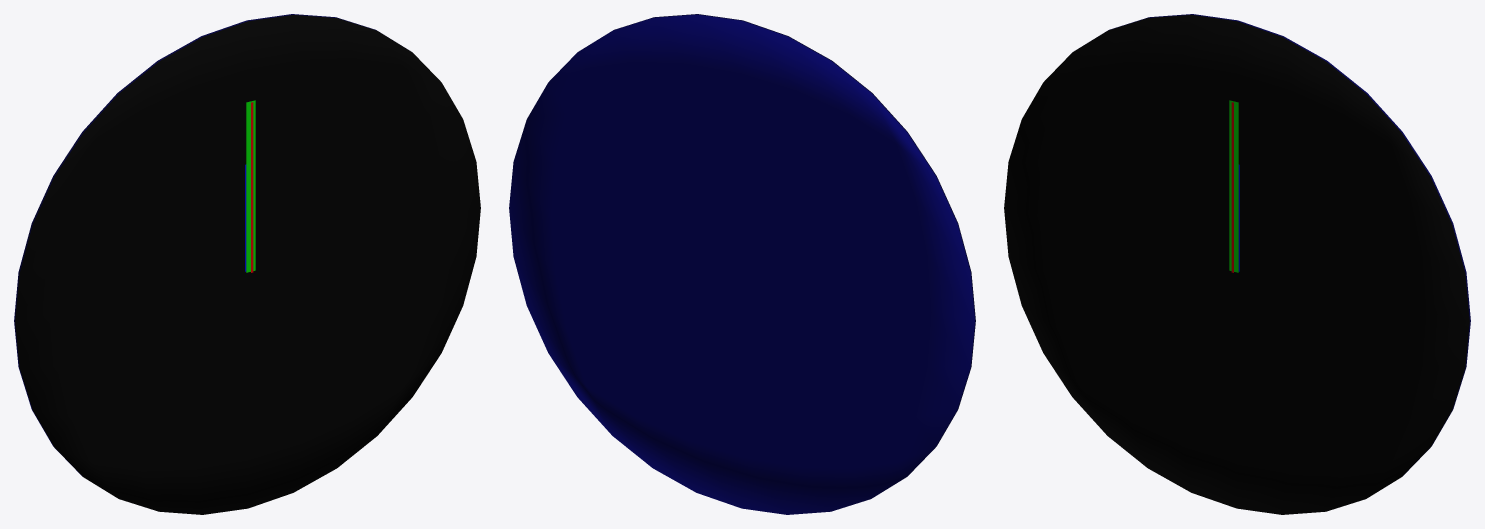
Rendered from RealtimeClock.fbx.
3 views of the same model, side by side, from view 1: azimuth 30°, elevation 25°; view 2: azimuth 150°, elevation 25°; view 3: azimuth 330°, elevation 25° (orthographic).
Parts seen in each view (by area): view 1: Watch; view 2: Watch; view 3: Watch.
Boxes of the visible parts, <box> form: Watch: <box>14,14,480,514</box>; Watch: <box>509,14,975,514</box>; Watch: <box>1004,14,1470,514</box>.
Size of the model in its own units: 200 by 200 by 4.
